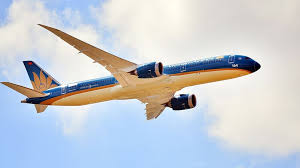maybay_dansu: (11, 29, 257, 115)
